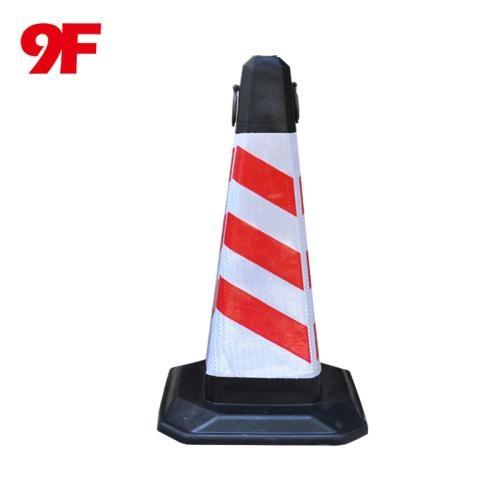cone_barrel: (164, 60, 359, 433)
